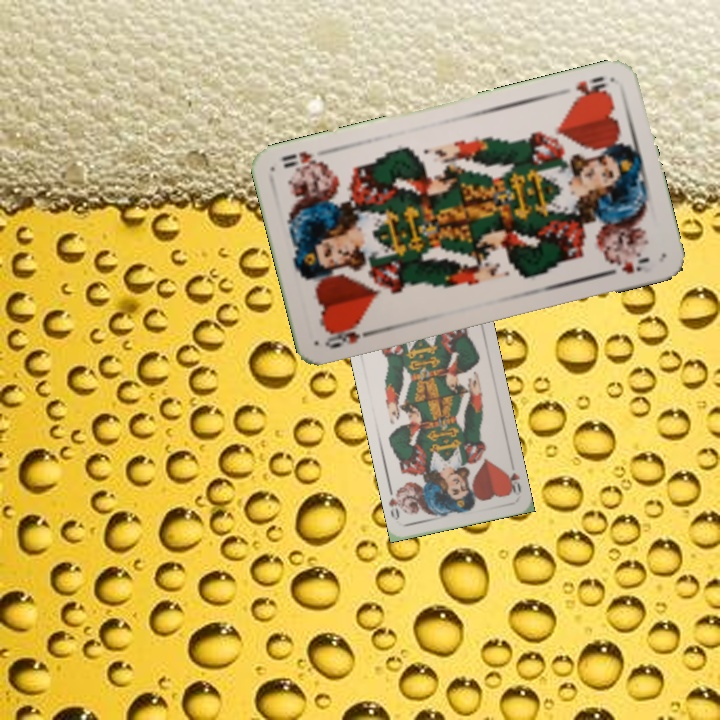HO: (320, 322, 378, 351), (567, 72, 610, 104), (501, 458, 524, 498)
